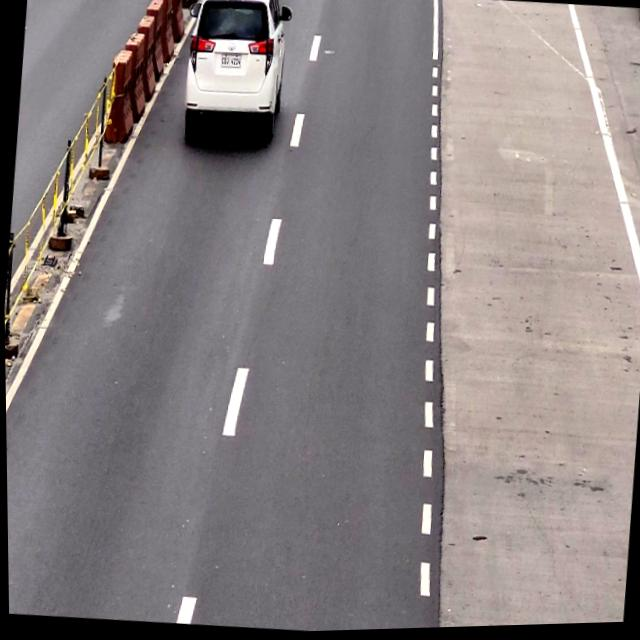Car: (178, 0, 290, 152)
License-Plate: (219, 51, 243, 73)
